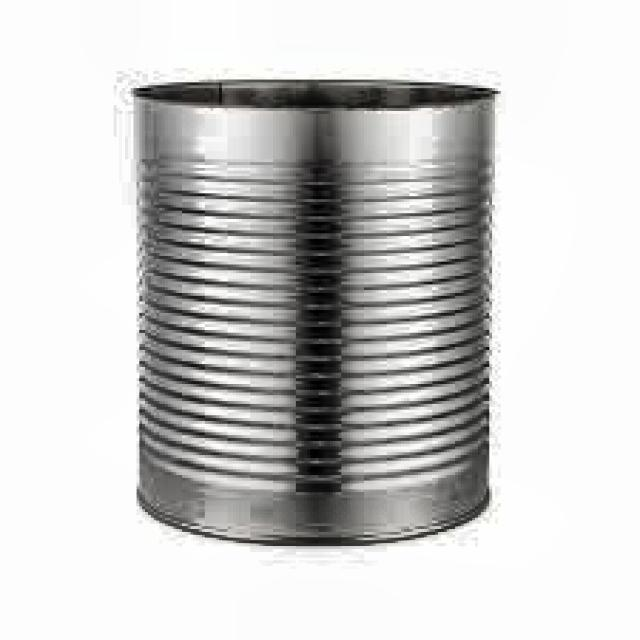can: (107, 64, 523, 562)
